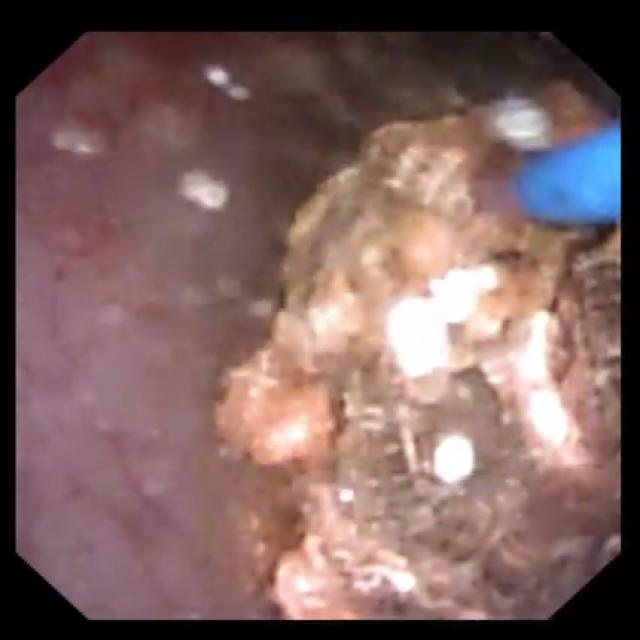fiber: (521, 130, 613, 213)
stone: (221, 82, 618, 611)
